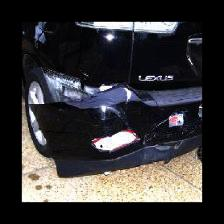bumper_dent: (64, 98, 193, 168)
